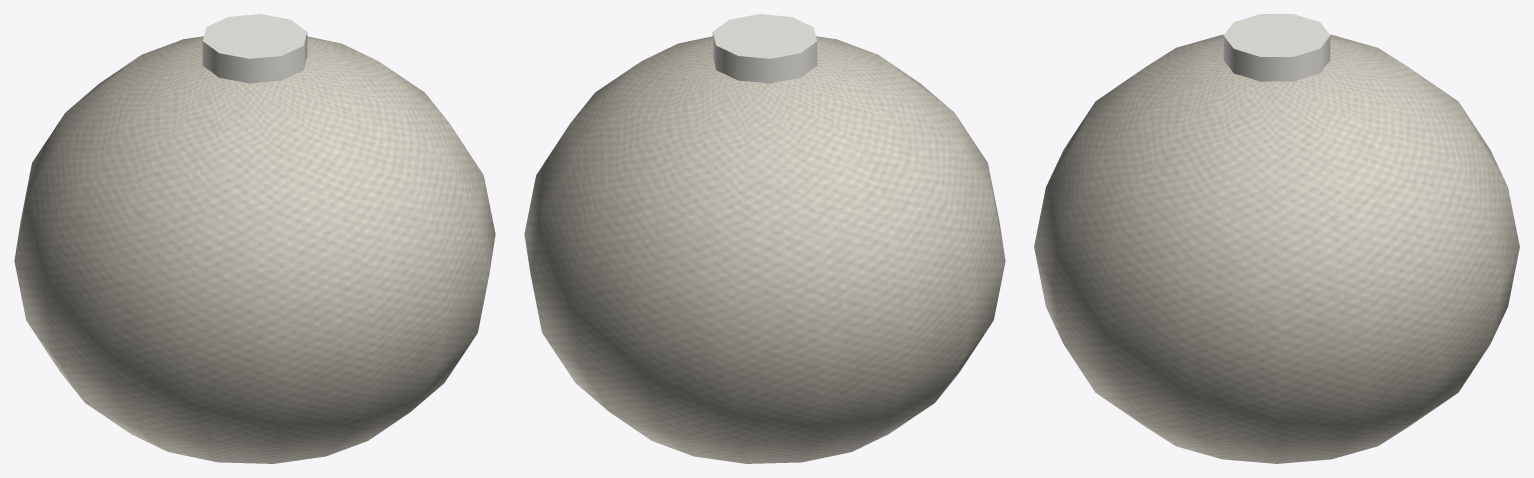
File: regnskur-mobile.glb
3 views of the same model, side by side, from view 1: azimuth 30°, elevation 25°; view 2: azimuth 150°, elevation 25°; view 3: azimuth 270°, elevation 25° (orthographic).
Parts seen in each view (by area): view 1: REGNSKUR / SUNNEBY Pendant lamp; view 2: REGNSKUR / SUNNEBY Pendant lamp; view 3: REGNSKUR / SUNNEBY Pendant lamp.
Part boxes in pixels (x1,y1,x2,y2): REGNSKUR / SUNNEBY Pendant lamp: (14, 14, 495, 463); REGNSKUR / SUNNEBY Pendant lamp: (524, 14, 1005, 463); REGNSKUR / SUNNEBY Pendant lamp: (1034, 14, 1519, 463).
Size of the model in its own units: 0.5 by 0.46 by 0.5.
Materials: 2 (2 with a texture image).
